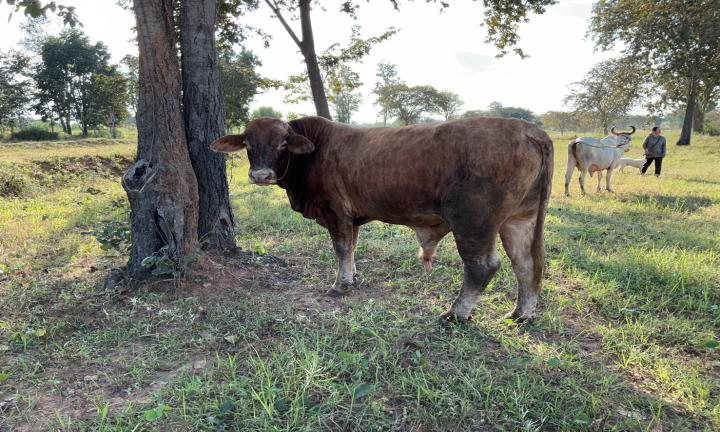Charolais: (211, 116, 554, 321)
